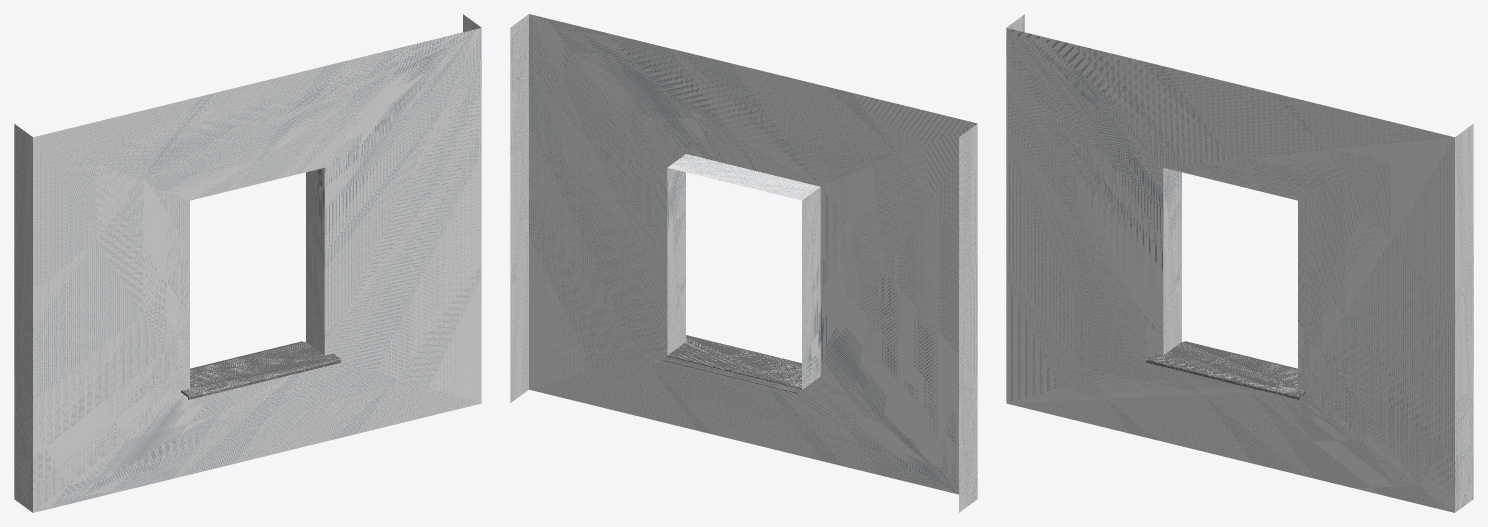
The model's file is WindowBlock_os_[500x400]_150x200x[090].dae.
The picture shows the model from 3 angles, left to right: view 1: azimuth 30°, elevation 25°; view 2: azimuth 150°, elevation 25°; view 3: azimuth 330°, elevation 25°; orthographic projection.
Visible parts, largest first — view 1: group_1 (×2), group_2; view 2: group_1 (×2), group_2 (×2); view 3: group_1 (×2), group_2.
Part boxes in pixels (bbox=[...]): group_1 (×2): bbox=[14, 14, 481, 512]; group_2: bbox=[181, 342, 341, 399]; group_1 (×2): bbox=[510, 14, 977, 512]; group_2 (×2): bbox=[663, 335, 801, 393]; group_1 (×2): bbox=[1006, 14, 1473, 512]; group_2: bbox=[1146, 342, 1306, 399].
Bounding box in the file's own units: 197 × 23.03 × 157.
